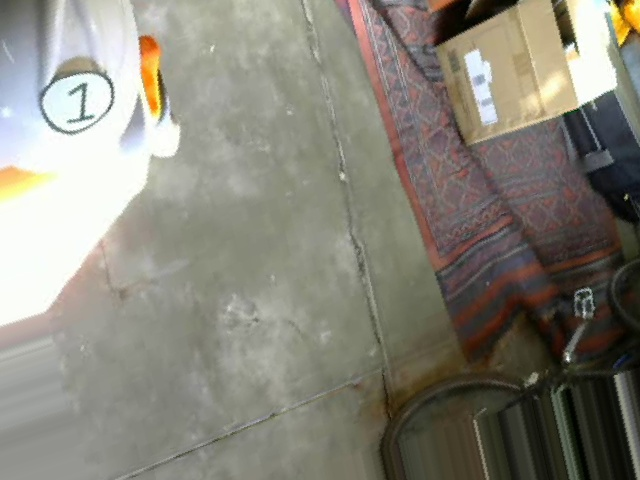one: (34, 62, 119, 141)
